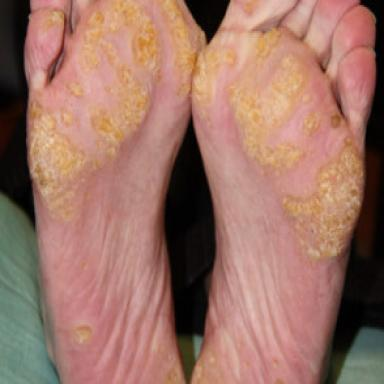eczema: (283, 108, 363, 260), (229, 29, 306, 174), (81, 10, 149, 157), (29, 101, 100, 220), (159, 2, 205, 95), (113, 3, 159, 71), (193, 46, 236, 109), (36, 9, 65, 30), (304, 112, 321, 138), (74, 327, 92, 344), (61, 108, 73, 129), (66, 83, 80, 97)
